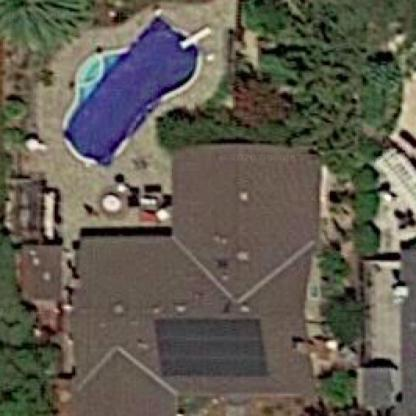solar_panel: (148, 305, 283, 396)
swimming_pool: (67, 25, 206, 178)
